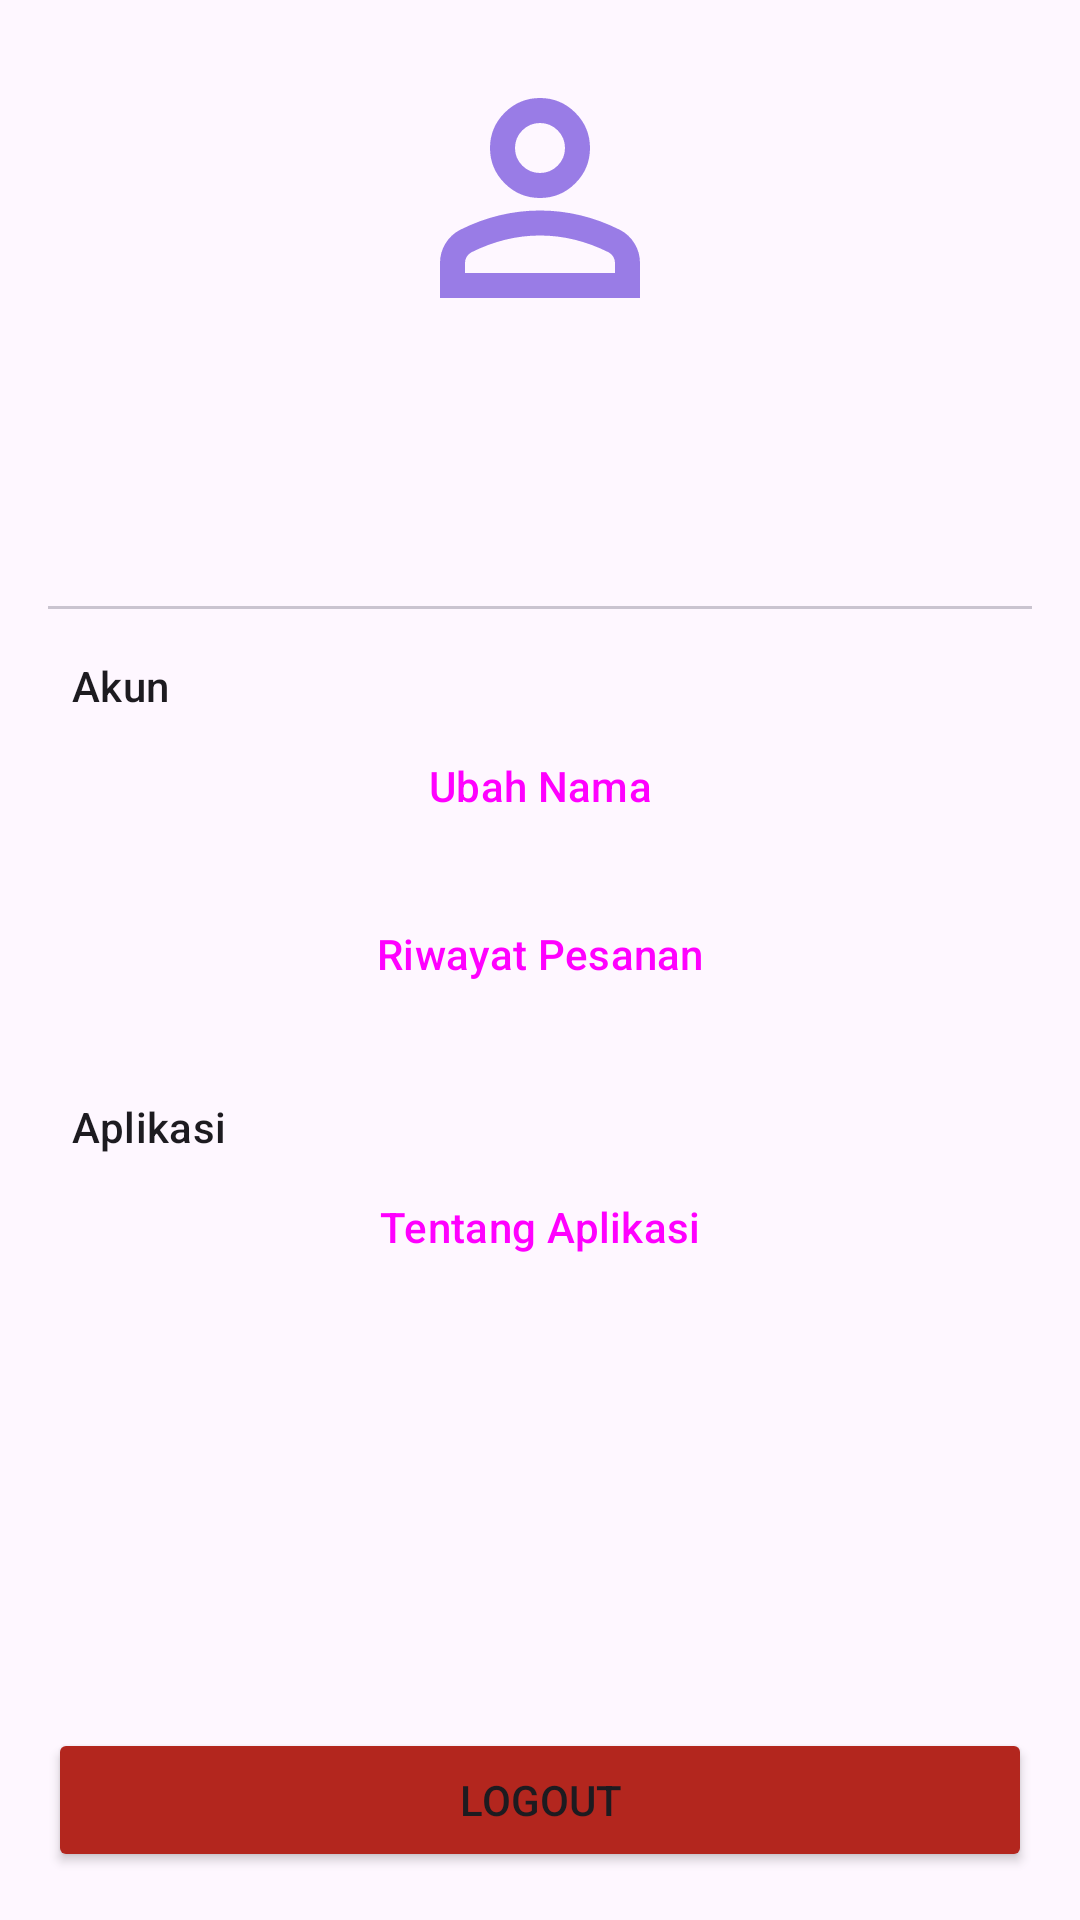

Icon click points for this 1080px x 1920px phone screenshot, format [x,y]:
Profile Picture: [540,198]
